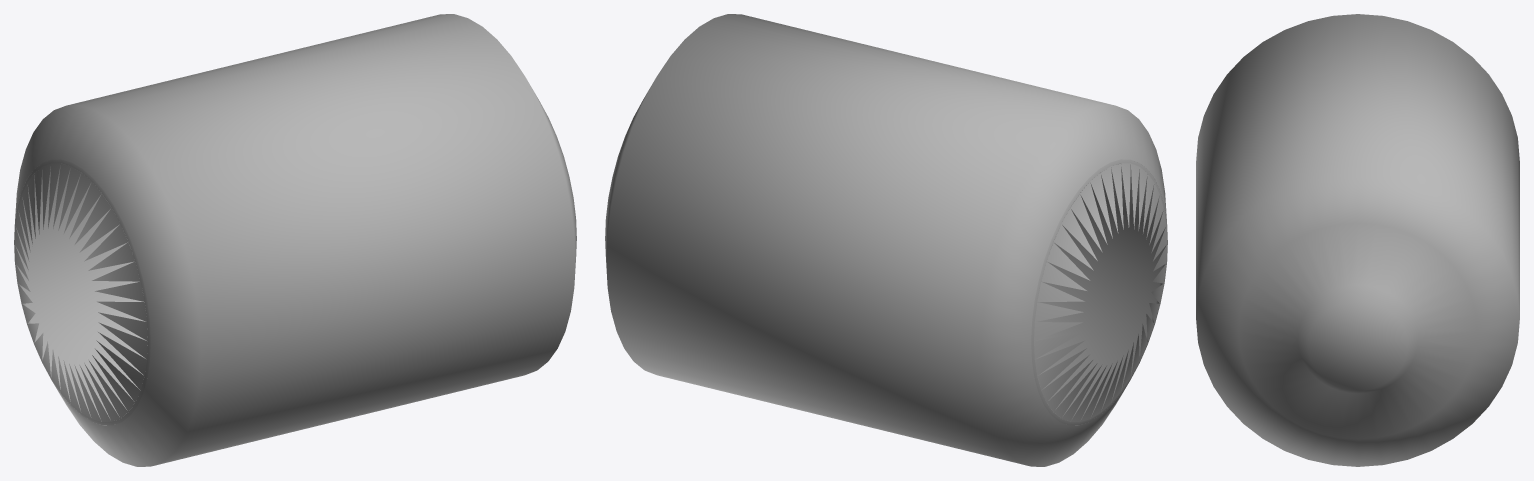
File: iss-columbus.glb
3 views of the same model, side by side, from view 1: azimuth 30°, elevation 25°; view 2: azimuth 150°, elevation 25°; view 3: azimuth 270°, elevation 25° (orthographic). The views are drawn at different scales.
Visible parts, largest first — view 1: columbus; view 2: columbus; view 3: columbus.
Boxes of the visible parts, left/top/right/bottom form: columbus: left=14, top=14, right=576, bottom=466; columbus: left=605, top=14, right=1167, bottom=466; columbus: left=1196, top=14, right=1519, bottom=466.
Size of the model in its own units: 5.48 by 3.68 by 3.67.
Materials: 1 (1 with a texture image).
